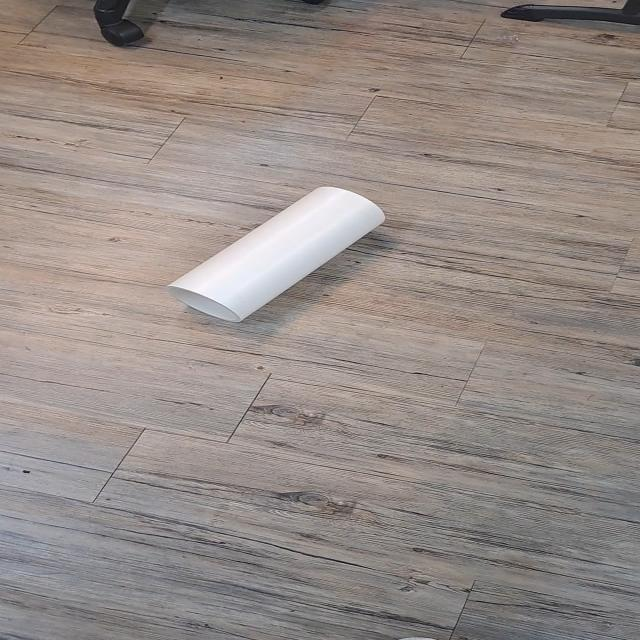CORAL: (164, 177, 383, 329)
